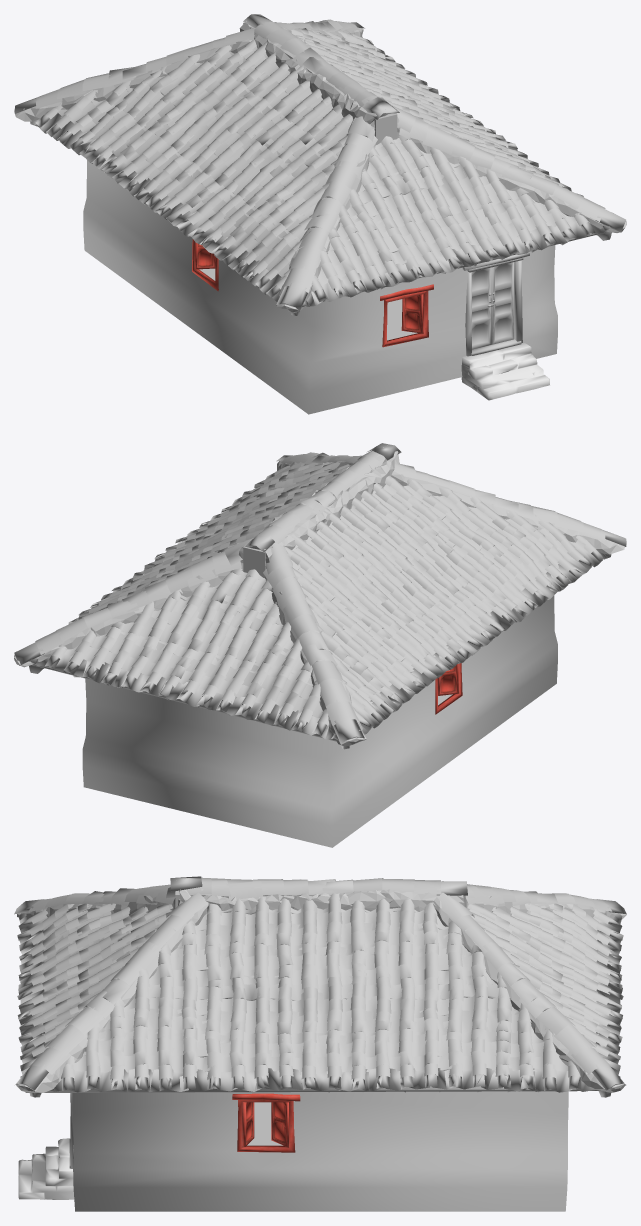
Rendered from FarmHouse_v0.1.fbx.
3 renders of one model, top to bottom at view 1: azimuth 30°, elevation 25°; view 2: azimuth 150°, elevation 25°; view 3: azimuth 270°, elevation 25°, orthographic. The views are drawn at different scales.
Visible parts, largest first — view 1: Exterior Roof, HouseBody; view 2: Exterior Roof, HouseBody, Interior Roof; view 3: Exterior Roof, HouseBody, Interior Roof.
Part boxes in pixels (x1,y1,x2,y2): Exterior Roof: [14, 14, 626, 312]; HouseBody: [83, 160, 557, 414]; Exterior Roof: [14, 443, 626, 746]; HouseBody: [82, 557, 557, 847]; Interior Roof: [29, 461, 611, 749]; Exterior Roof: [14, 876, 626, 1092]; HouseBody: [18, 1091, 568, 1211]; Interior Roof: [25, 890, 610, 1097].
Bounding box in the file's own units: 721 × 490 × 996.
